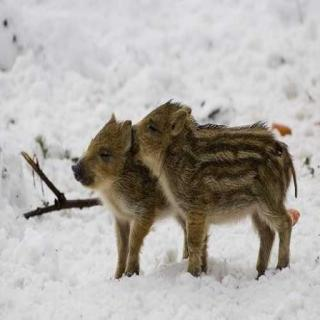Pig: (140, 102, 317, 266), (65, 107, 224, 277)
